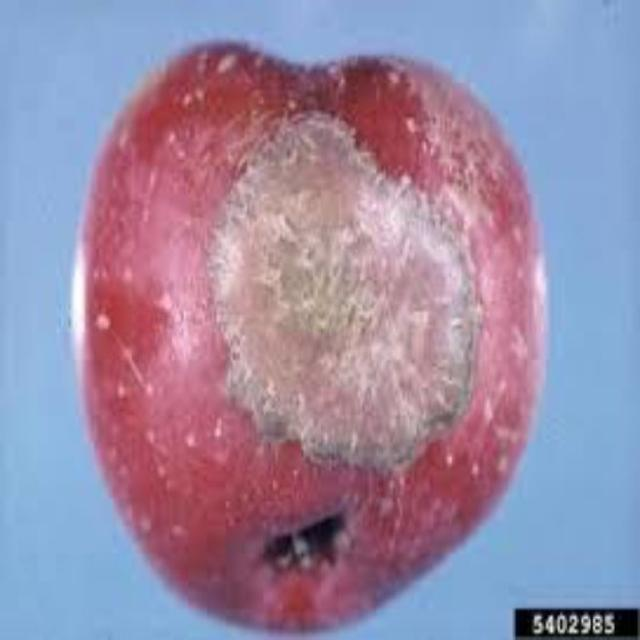Rotten Apple: (74, 36, 541, 568)
